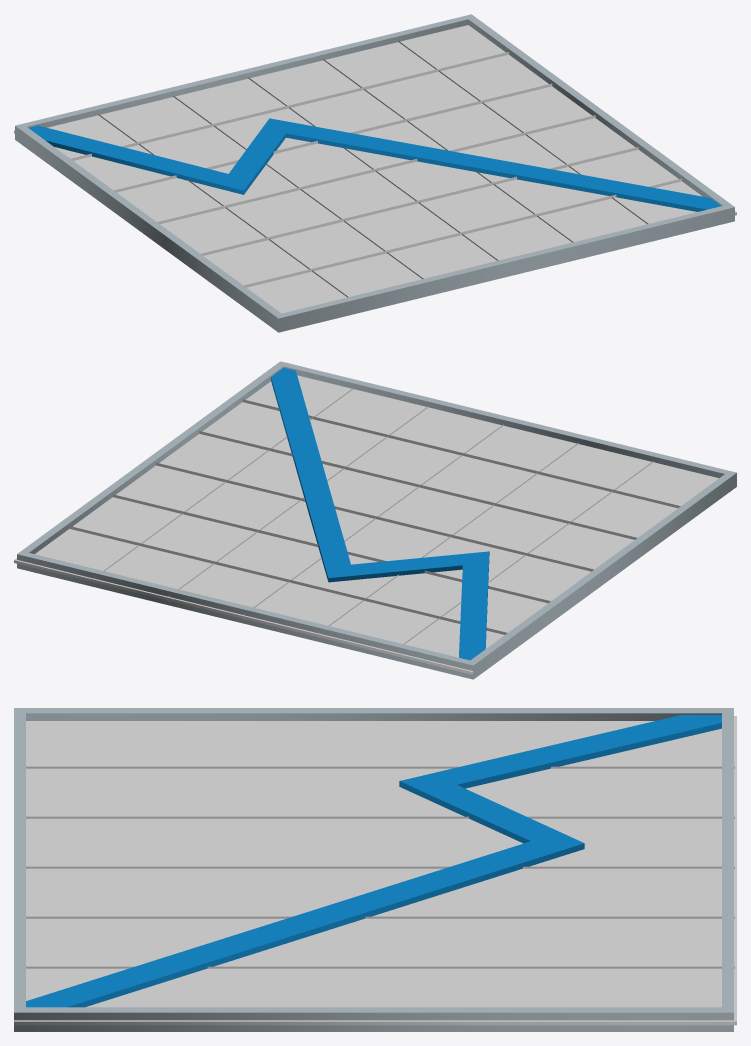
The model's file is emoji_u1f4c9.glb.
3 views of the same model, one above another, from view 1: azimuth 30°, elevation 25°; view 2: azimuth 150°, elevation 25°; view 3: azimuth 270°, elevation 25° (orthographic). The views are drawn at different scales.
Parts seen in each view (by area): view 1: emoji_u1f4c9; view 2: emoji_u1f4c9; view 3: emoji_u1f4c9.
Part boxes in pixels (bbox=[...]): emoji_u1f4c9: bbox=[14, 14, 736, 332]; emoji_u1f4c9: bbox=[14, 361, 736, 679]; emoji_u1f4c9: bbox=[14, 708, 736, 1031].
Size of the model in its own units: 0.0339 by 0.001 by 0.0339.
